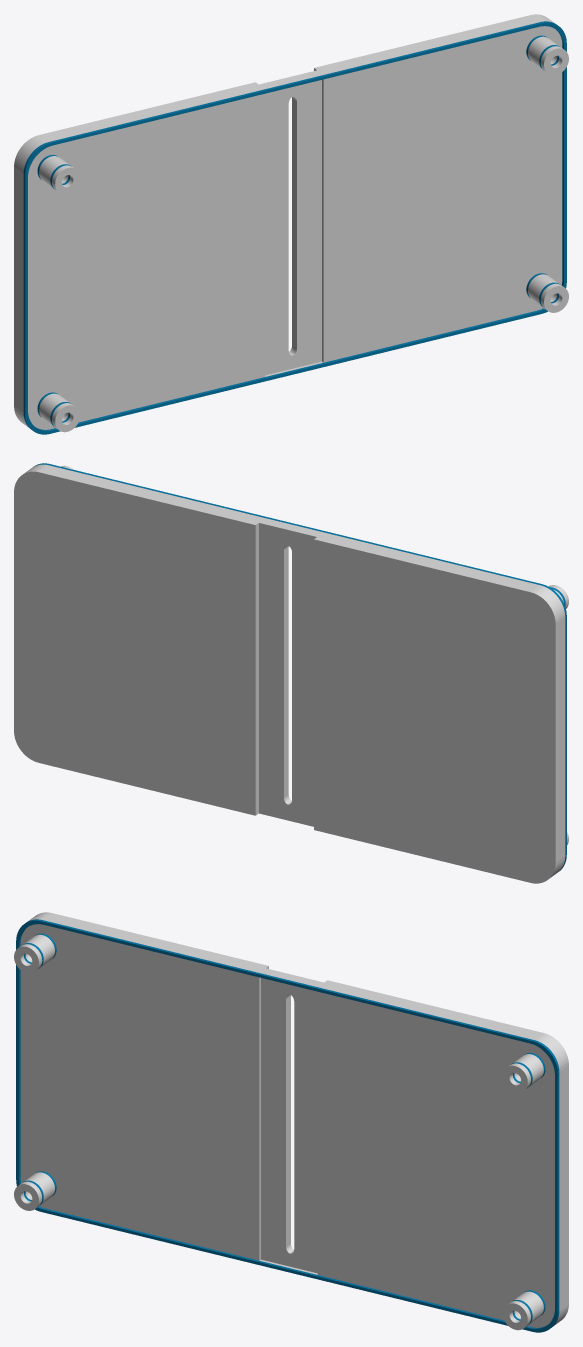
Rendered from qx-plate.obj.
3 views of the same model, one above another, from view 1: azimuth 30°, elevation 25°; view 2: azimuth 150°, elevation 25°; view 3: azimuth 330°, elevation 25° (orthographic).
Visible parts, largest first — view 1: group_0_16448250, group_0_30377; view 2: group_0_16448250, group_0_30377; view 3: group_0_16448250, group_0_30377.
Boxes of the visible parts, left/top/right/bottom form: group_0_16448250: left=14, top=14, right=568, bottom=432; group_0_30377: left=23, top=21, right=566, bottom=434; group_0_16448250: left=14, top=464, right=568, bottom=883; group_0_30377: left=33, top=463, right=566, bottom=871; group_0_16448250: left=14, top=912, right=568, bottom=1330; group_0_30377: left=16, top=919, right=559, bottom=1332.
Bounding box in the file's own units: 195 × 100 × 17.
